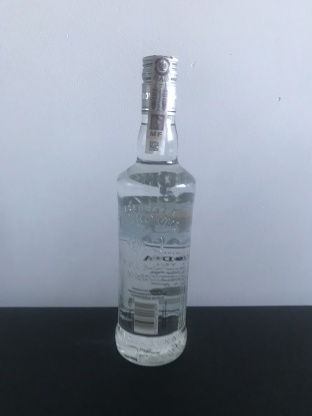nakretka: (138, 50, 180, 119)
